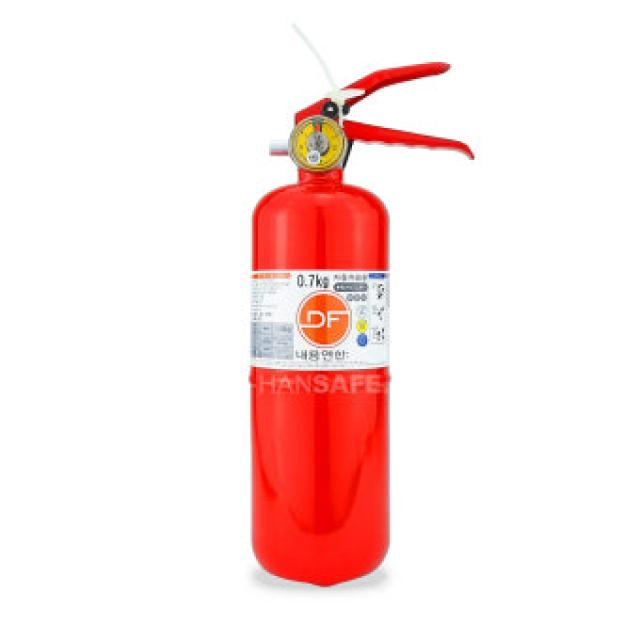pressure gauge: (290, 117, 346, 171)
